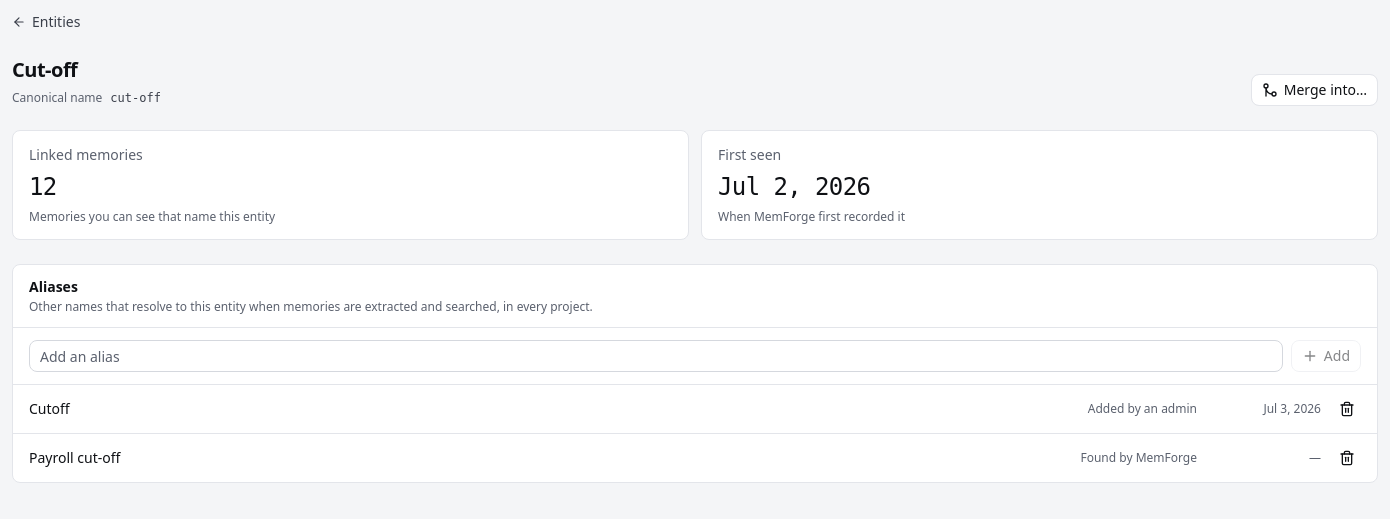
Test case: a 403 entity_curation_forbidden shows the server message
Type "Cut off date" into the field named "New alias".
click(656, 356); type("Cut off date")  # box [29,340,1283,372]
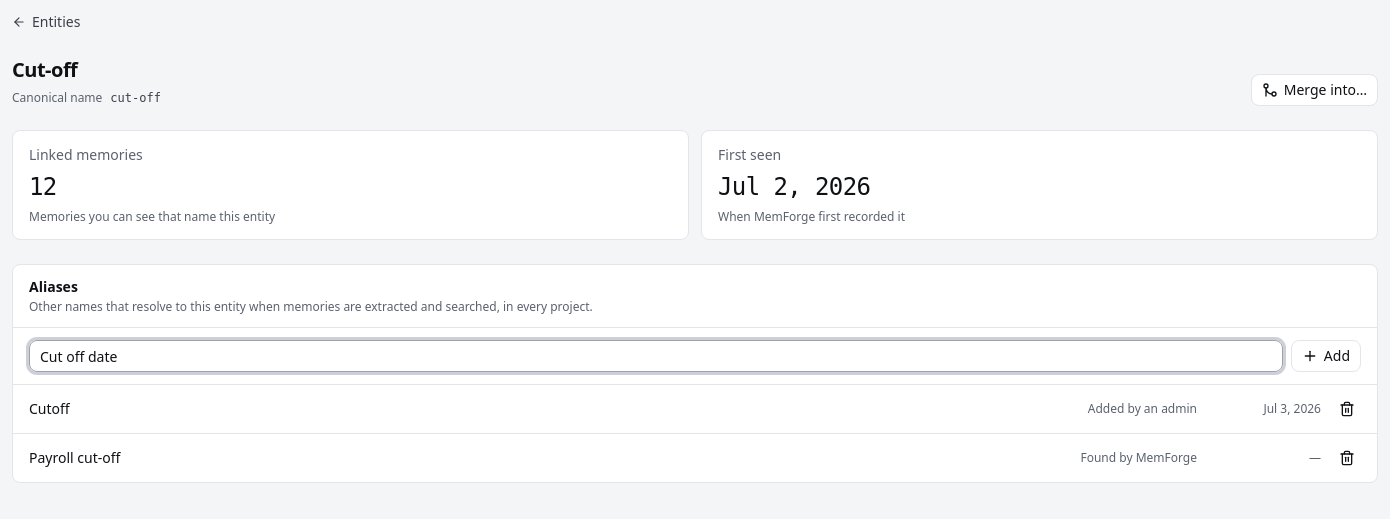
Click the button "Add".
click(1326, 356)  # box [1291,340,1361,372]
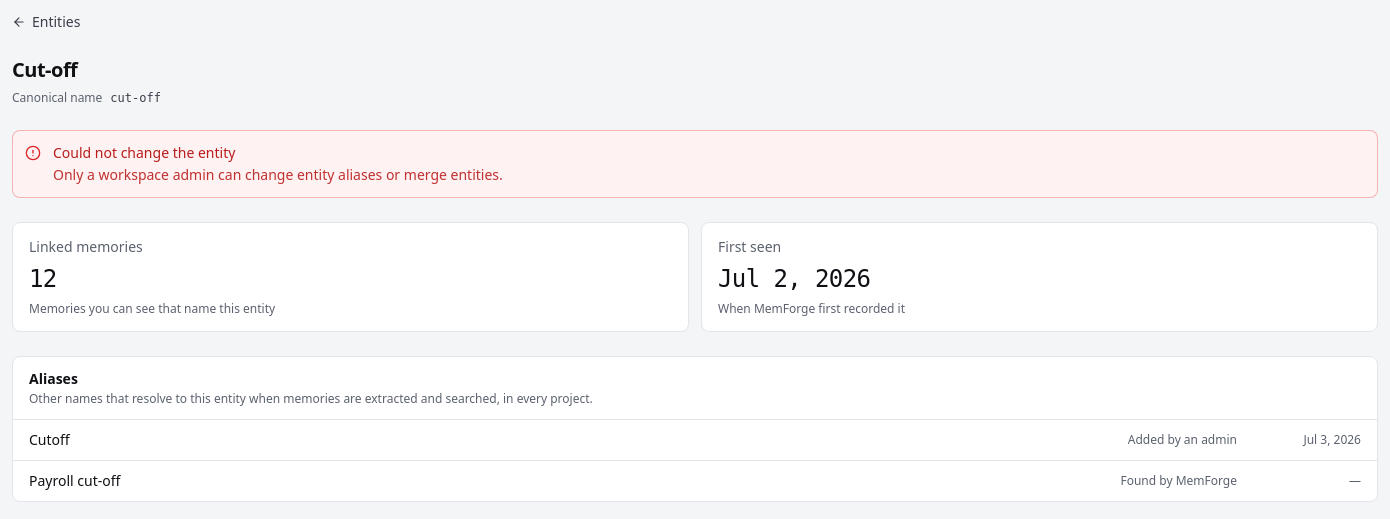
Result: the message shows "Could not change the entity" at [53,143,235,162]
Result: the message shows "Only a workspace admin can change entity aliases or merge entities." at [53,165,503,184]
Result: the button "Merge into…" is gone
